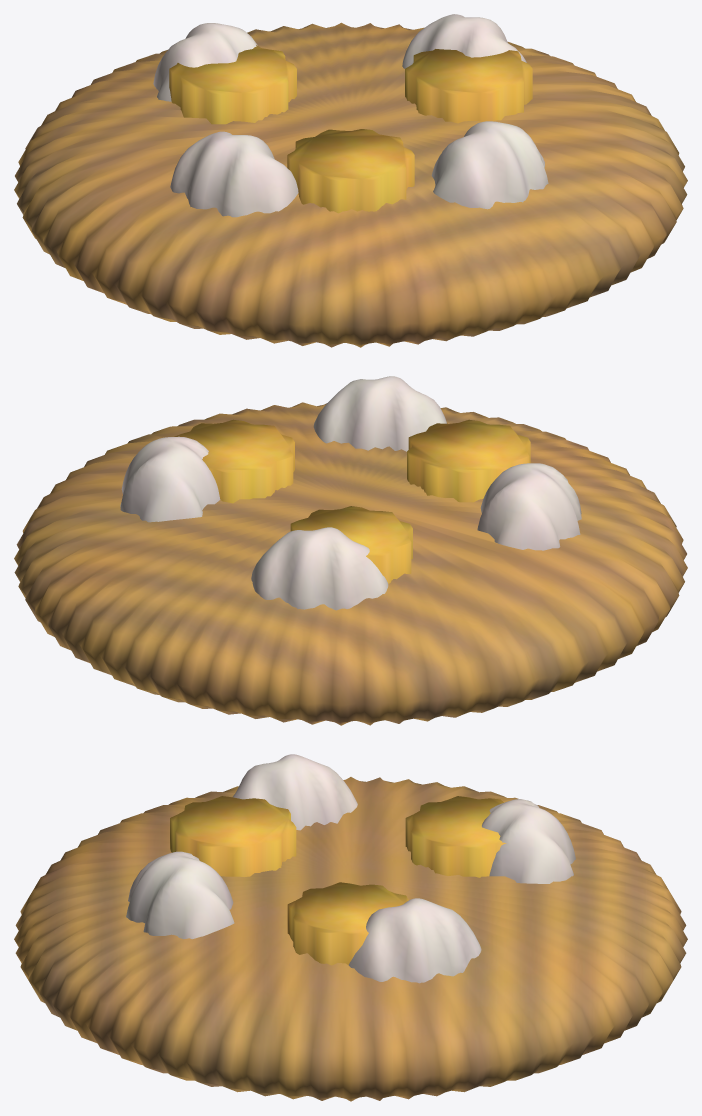
Rendered from dim-sum-platter-high.glb.
3 views of the same model, one above another, from view 1: azimuth 30°, elevation 25°; view 2: azimuth 150°, elevation 25°; view 3: azimuth 270°, elevation 25° (orthographic).
Visible parts, largest first — view 1: Mesh_Bamboo_Steamer_Basket, Mesh_Fluted_Golden_Siu_Mai, Mesh_Pleated_Crystal_Har_Gow; view 2: Mesh_Bamboo_Steamer_Basket, Mesh_Pleated_Crystal_Har_Gow, Mesh_Fluted_Golden_Siu_Mai; view 3: Mesh_Bamboo_Steamer_Basket, Mesh_Pleated_Crystal_Har_Gow, Mesh_Fluted_Golden_Siu_Mai.
Boxes of the visible parts, x1=… form: Mesh_Bamboo_Steamer_Basket: x1=14, y1=22, x2=687, y2=347; Mesh_Fluted_Golden_Siu_Mai: x1=169, y1=45, x2=532, y2=213; Mesh_Pleated_Crystal_Har_Gow: x1=153, y1=14, x2=548, y2=217; Mesh_Bamboo_Steamer_Basket: x1=14, y1=402, x2=687, y2=725; Mesh_Pleated_Crystal_Har_Gow: x1=120, y1=376, x2=581, y2=610; Mesh_Fluted_Golden_Siu_Mai: x1=174, y1=419, x2=530, y2=583; Mesh_Bamboo_Steamer_Basket: x1=14, y1=777, x2=687, y2=1101; Mesh_Pleated_Crystal_Har_Gow: x1=126, y1=754, x2=575, y2=983; Mesh_Fluted_Golden_Siu_Mai: x1=170, y1=796, x2=506, y2=965.
Size of the model in its own units: 2.2 by 0.65 by 2.2.
4 materials, 4 textured.
